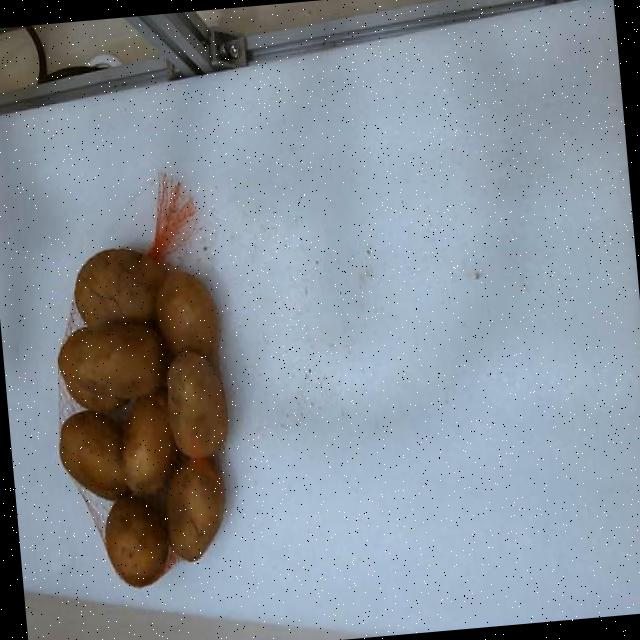potato: (57, 322, 164, 410), (74, 249, 164, 328), (166, 349, 226, 457), (164, 458, 224, 561), (58, 410, 126, 499), (104, 495, 167, 587), (156, 272, 219, 355), (122, 394, 174, 493)
